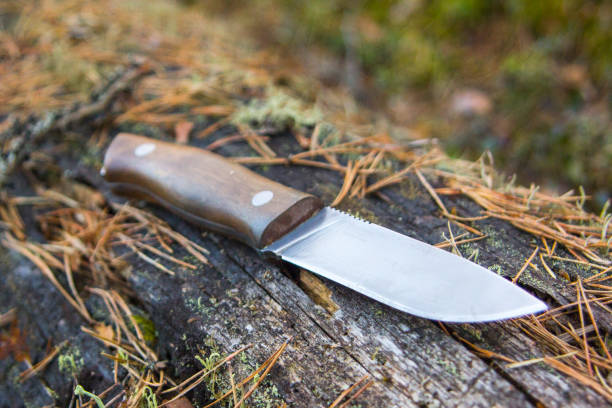knife: (95, 127, 550, 328)
